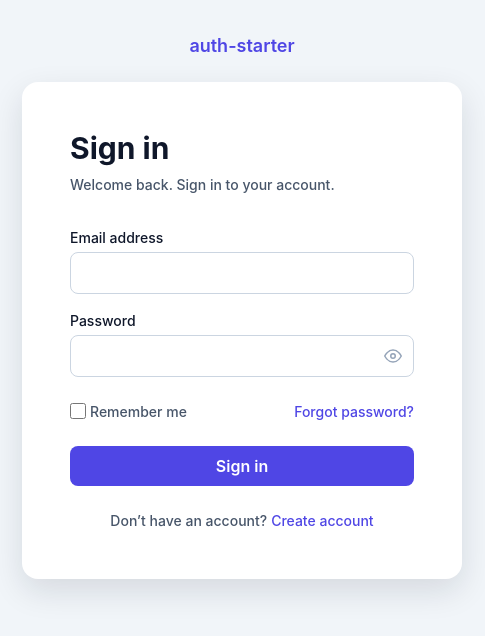
LoginPage › Form validation › clears email error when user starts typing in email field
This screenshot has width=485, height=636.
Submit the form
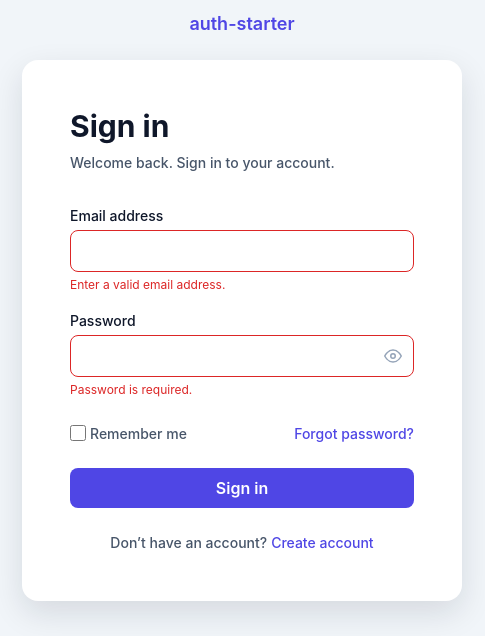
Check: the text "Enter a valid email address." is shown, box [70,276,225,292]
Type "a" into the field labelled "Email address" at (242, 250), box [70,230,414,272]
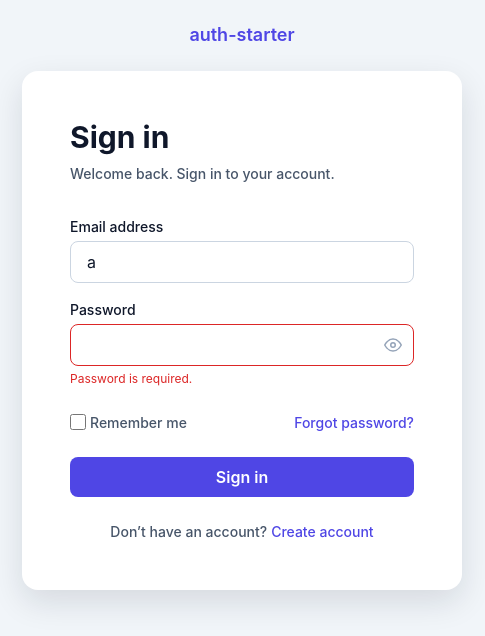
Check: the text "Enter a valid email address." is gone
